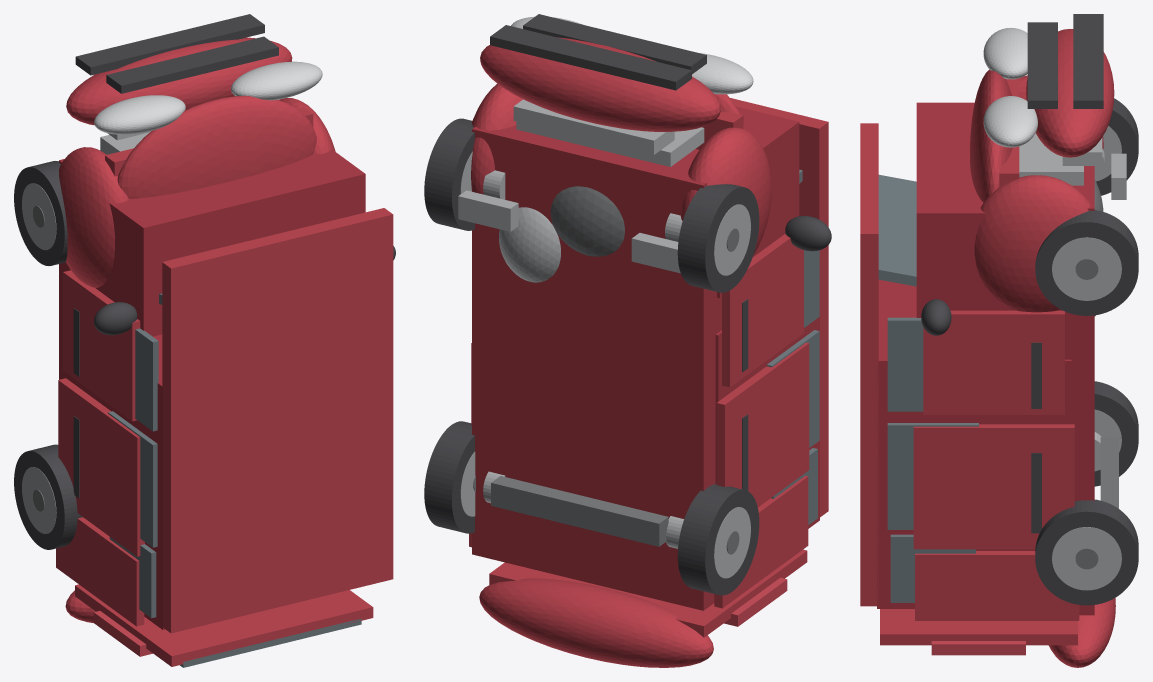
The model's file is fiat-doblo-263-epc.glb.
3 renders of one model, left to right at view 1: azimuth 30°, elevation 25°; view 2: azimuth 150°, elevation 25°; view 3: azimuth 270°, elevation 25°, orthographic. The views are drawn at different scales.
Parts seen in each view (by area): view 1: roof, body_shell_front, hood, sliding_door_left, rear_door, front_fender_left, front_door_left, front_bumper, rear_quarter_left, front_grille, front_lower_grille, tire_rear_left (+15 smaller); view 2: body_frame, rear_bumper, front_bumper, sliding_door_left, front_door_left, roof, mechanical_rear_torsion, tire_rear_left, tire_front_left, front_lower_grille, front_fender_left, body_shell_front (+23 smaller); view 3: sliding_door_right, front_door_right, body_shell_front, rear_quarter_right, front_fender_right, roof, body_shell_rear, tire_rear_right, tire_front_right, body_frame, rear_door, front_bumper (+25 smaller).
Boxes of the visible parts, x1=… form: roof: x1=162, y1=208, x2=393, y2=633; body_shell_front: x1=69, y1=149, x2=365, y2=336; hood: x1=117, y1=95, x2=316, y2=198; sliding_door_left: x1=58, y1=378, x2=144, y2=556; rear_door: x1=75, y1=584, x2=373, y2=666; front_fender_left: x1=59, y1=147, x2=128, y2=287; front_door_left: x1=63, y1=270, x2=140, y2=421; front_bumper: x1=66, y1=37, x2=292, y2=125; rear_quarter_left: x1=56, y1=517, x2=144, y2=626; front_grille: x1=106, y1=36, x2=278, y2=93; front_lower_grille: x1=75, y1=14, x2=264, y2=75; tire_rear_left: x1=14, y1=444, x2=82, y2=549; body_frame: x1=472, y1=125, x2=721, y2=610; rear_bumper: x1=479, y1=578, x2=713, y2=667; front_bumper: x1=480, y1=37, x2=720, y2=131; sliding_door_left: x1=716, y1=342, x2=809, y2=507; front_door_left: x1=722, y1=234, x2=803, y2=387; roof: x1=730, y1=98, x2=828, y2=517; mechanical_rear_torsion: x1=491, y1=476, x2=668, y2=546; tire_rear_left: x1=677, y1=484, x2=759, y2=595; tire_front_left: x1=677, y1=184, x2=759, y2=292; front_lower_grille: x1=490, y1=25, x2=691, y2=90; front_fender_left: x1=680, y1=127, x2=771, y2=254; body_shell_front: x1=689, y1=106, x2=799, y2=297; sliding_door_right: x1=913, y1=424, x2=1074, y2=549; front_door_right: x1=923, y1=310, x2=1064, y2=414; body_shell_front: x1=916, y1=102, x2=1068, y2=326; rear_quarter_right: x1=915, y1=551, x2=1079, y2=620; front_fender_right: x1=974, y1=175, x2=1090, y2=312; roof: x1=860, y1=123, x2=878, y2=606; body_shell_rear: x1=877, y1=279, x2=1071, y2=608; tire_rear_right: x1=1035, y1=499, x2=1138, y2=605; tire_front_right: x1=1035, y1=210, x2=1138, y2=315; body_frame: x1=1065, y1=166, x2=1094, y2=615; rear_door: x1=880, y1=609, x2=1077, y2=645; front_bumper: x1=1026, y1=29, x2=1114, y2=157.
Size of the model in its own units: 2.32 by 4.2 by 1.83.
